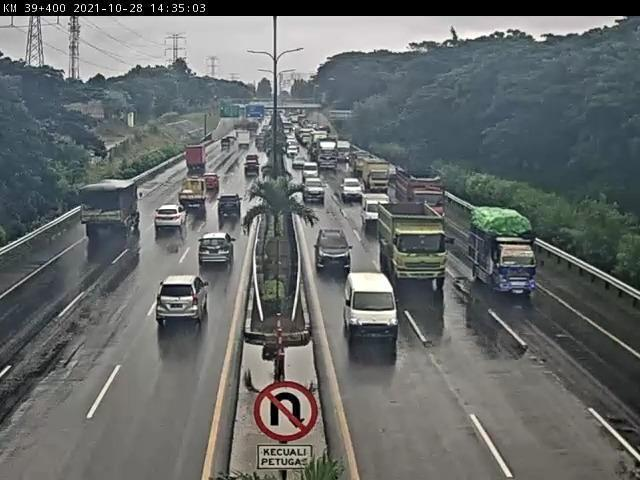car: (337, 271, 407, 347), (153, 275, 215, 331), (314, 225, 358, 281), (197, 232, 238, 271), (360, 194, 392, 233), (213, 191, 245, 228), (150, 199, 185, 231), (305, 176, 330, 211), (340, 175, 367, 205), (237, 156, 261, 178), (203, 174, 224, 193)
truck: (466, 207, 541, 308), (380, 204, 455, 291), (81, 176, 150, 250), (397, 171, 449, 216), (184, 174, 211, 218), (366, 163, 396, 200)
